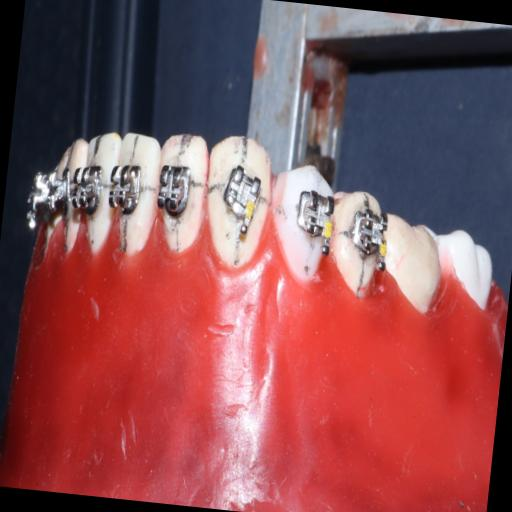incorrect_brace: (215, 160, 266, 243)
